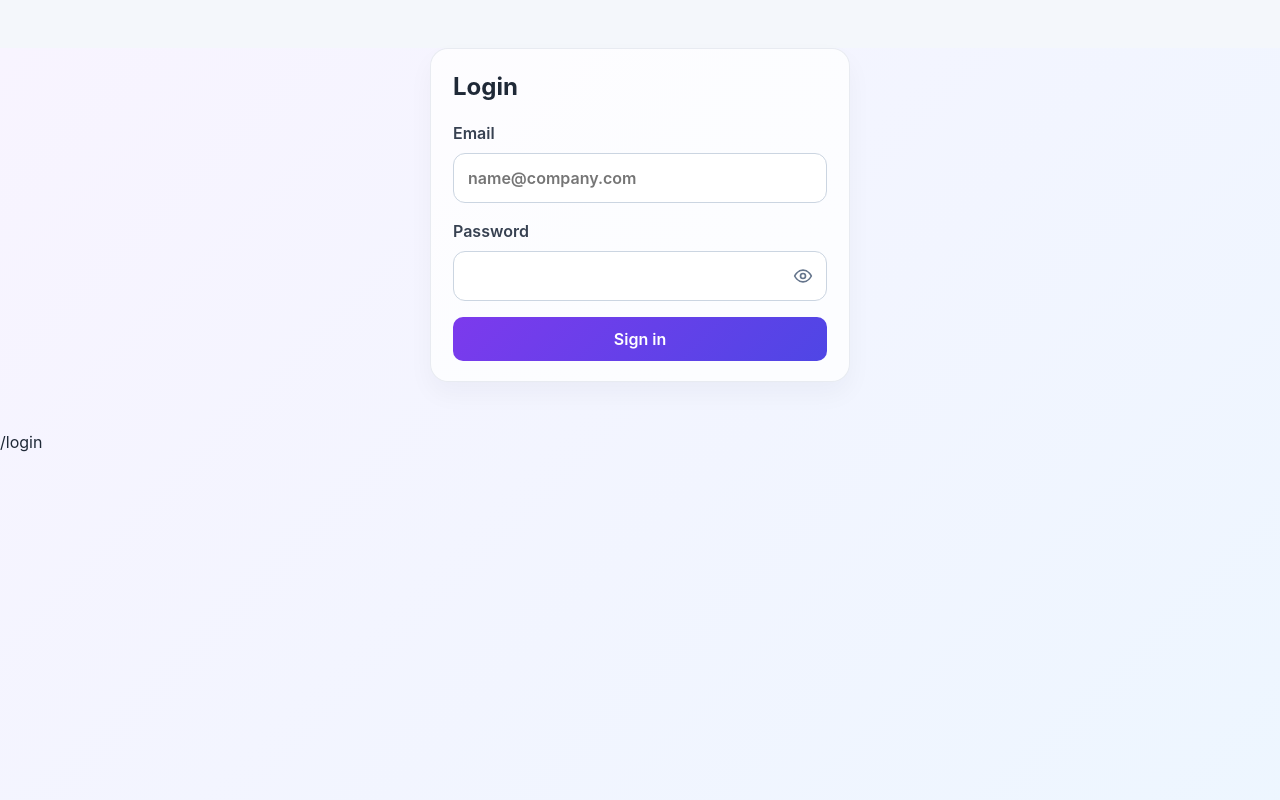
Test: logging in and out through the page › meera@reaplift.com lands on /workspaces
The width and height of the screenshot is (1280, 800).
Type "meera@reaplift.com" into the field labelled "Email" at (640, 178), box [453, 153, 827, 203]
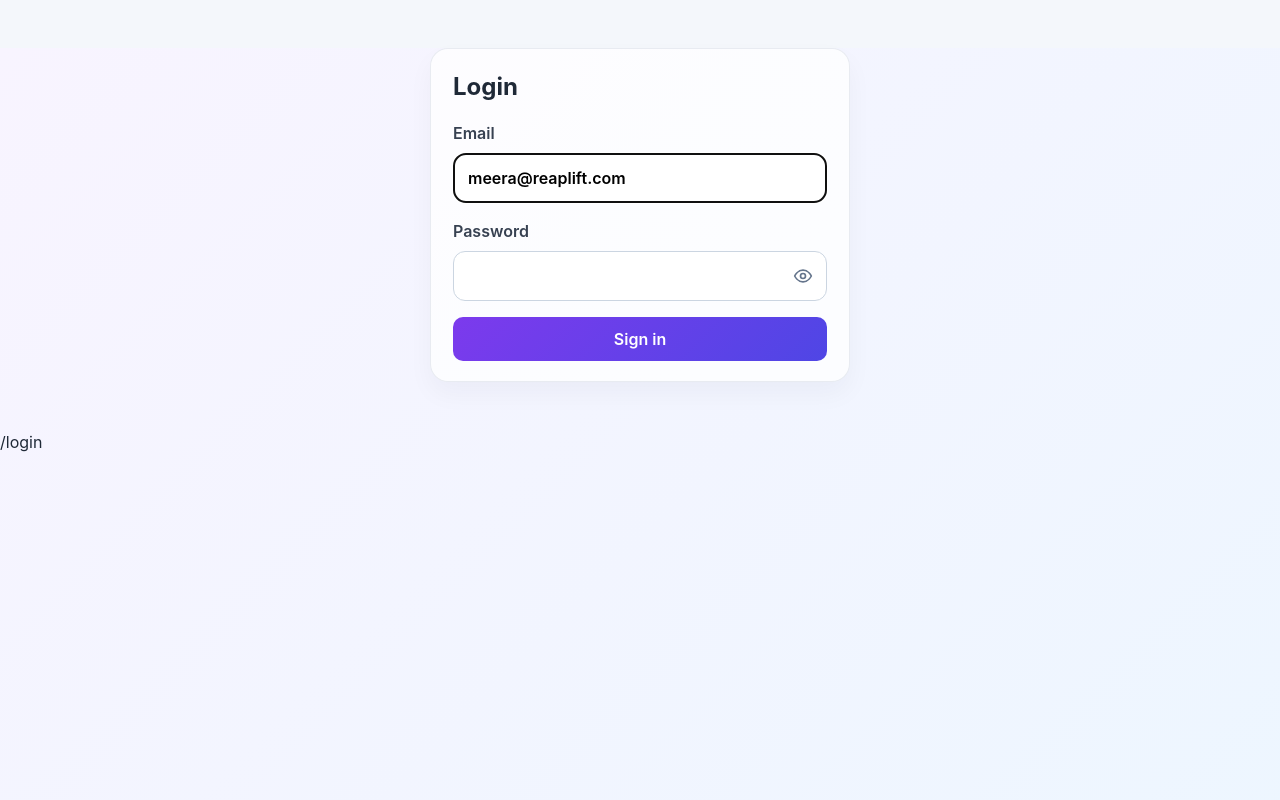
Type "reaplift-dev-1" into the password field labelled "Password" at (640, 276), box [453, 251, 827, 301]
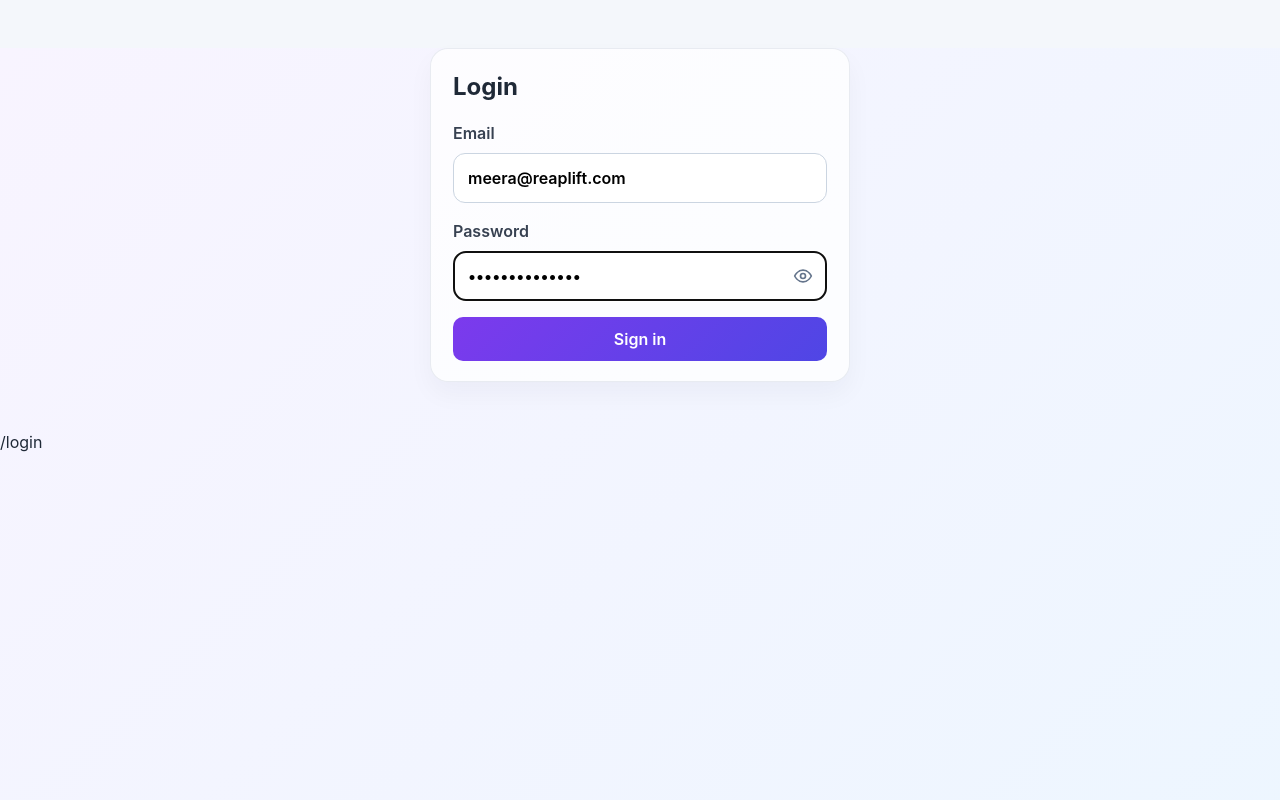
Click the button "Sign in" at (640, 339), box [453, 317, 827, 361]
(page scrolled)
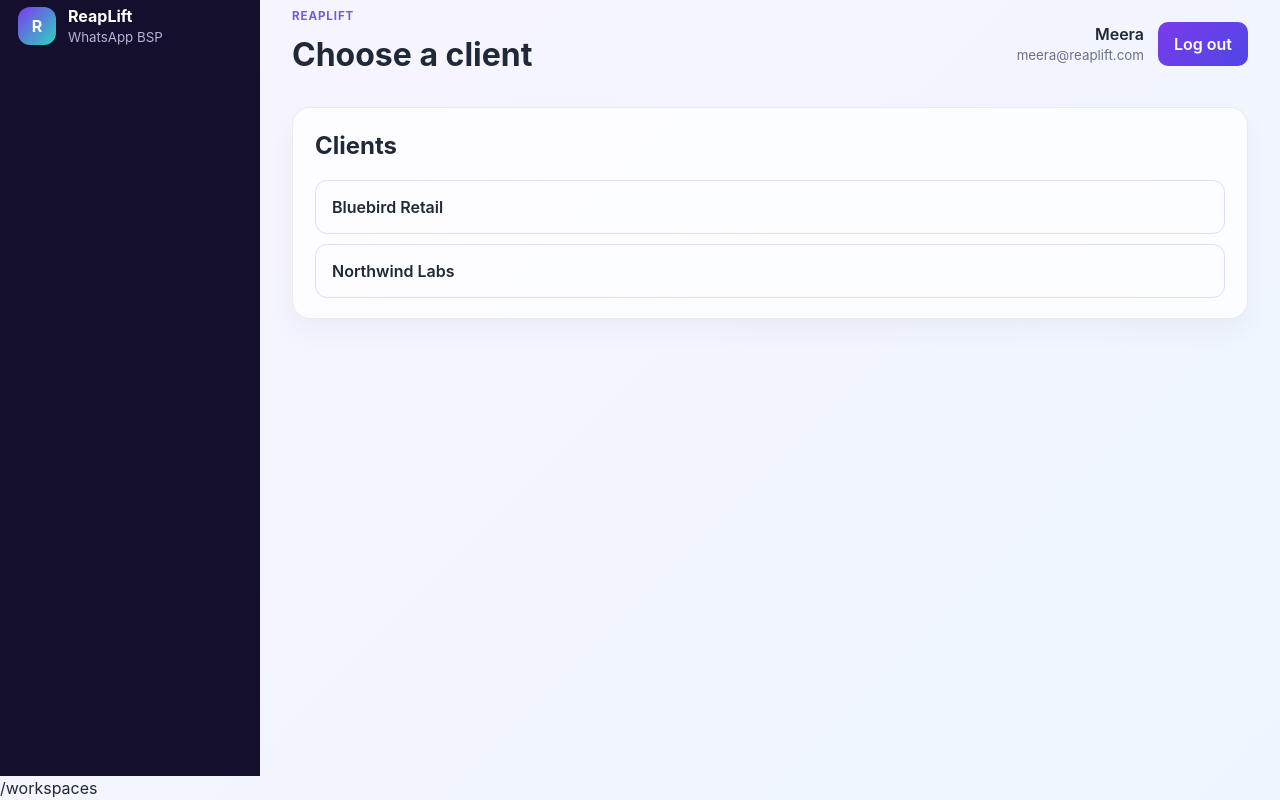
Expected: the text with test id "where" reads "/workspaces", [0, 778, 98, 798]
